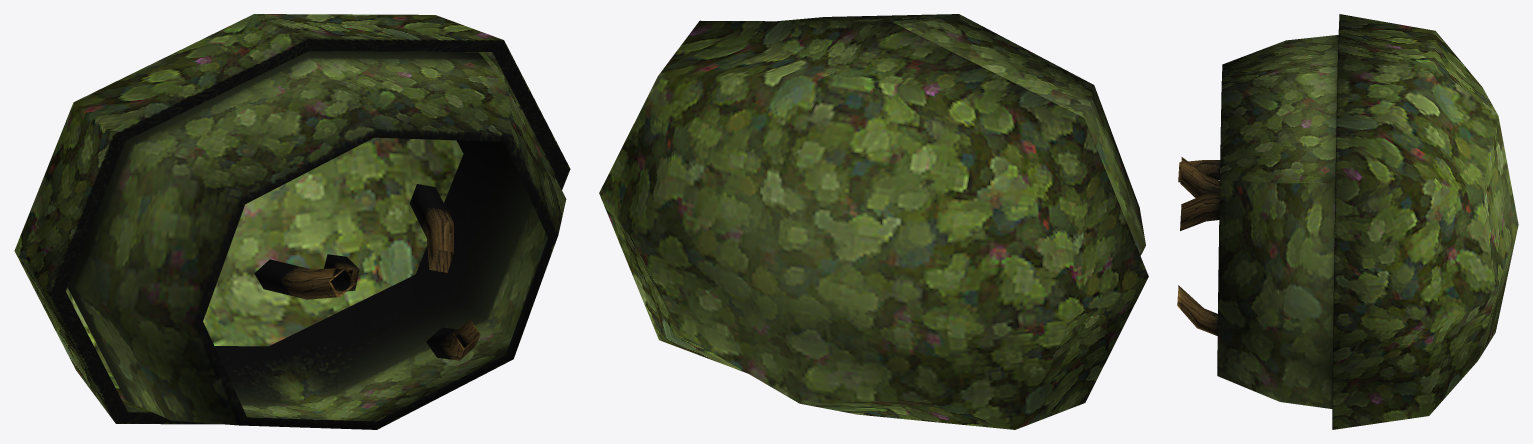
Rendered from bush01.fbx.
3 views of the same model, side by side, from view 1: azimuth 30°, elevation 25°; view 2: azimuth 150°, elevation 25°; view 3: azimuth 270°, elevation 25° (orthographic). The views are drawn at different scales.
Parts seen in each view (by area): view 1: bush01; view 2: bush01; view 3: bush01.
Boxes of the visible parts, left/top/right/bottom form: bush01: left=14, top=14, right=570, bottom=429; bush01: left=599, top=14, right=1148, bottom=429; bush01: left=1177, top=14, right=1518, bottom=429.
Size of the model in its own units: 1.46 by 0.9531 by 1.02.
